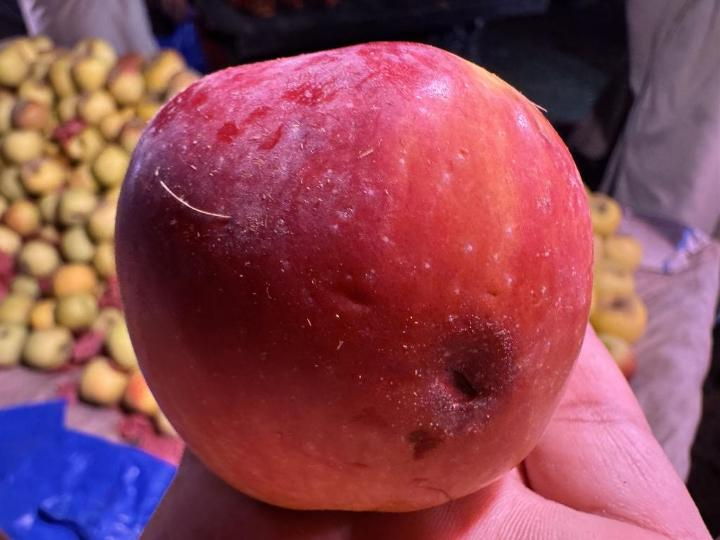apple: (115, 42, 593, 511)
surface_damage: (406, 313, 522, 466)
